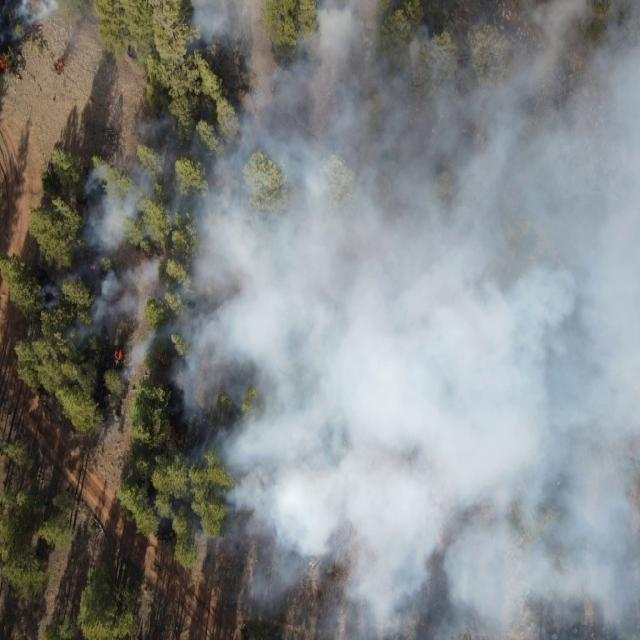fire: (0, 54, 11, 78), (52, 55, 64, 74)
smoke: (185, 9, 640, 621), (81, 156, 188, 398), (5, 0, 59, 32)
